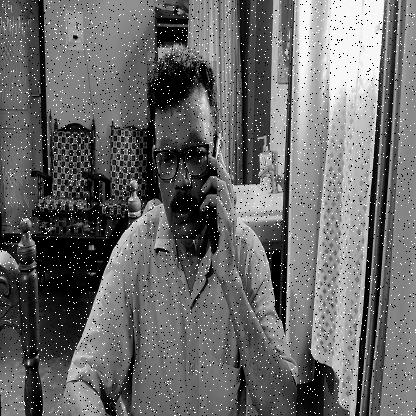Normal: (147, 62, 217, 240)
